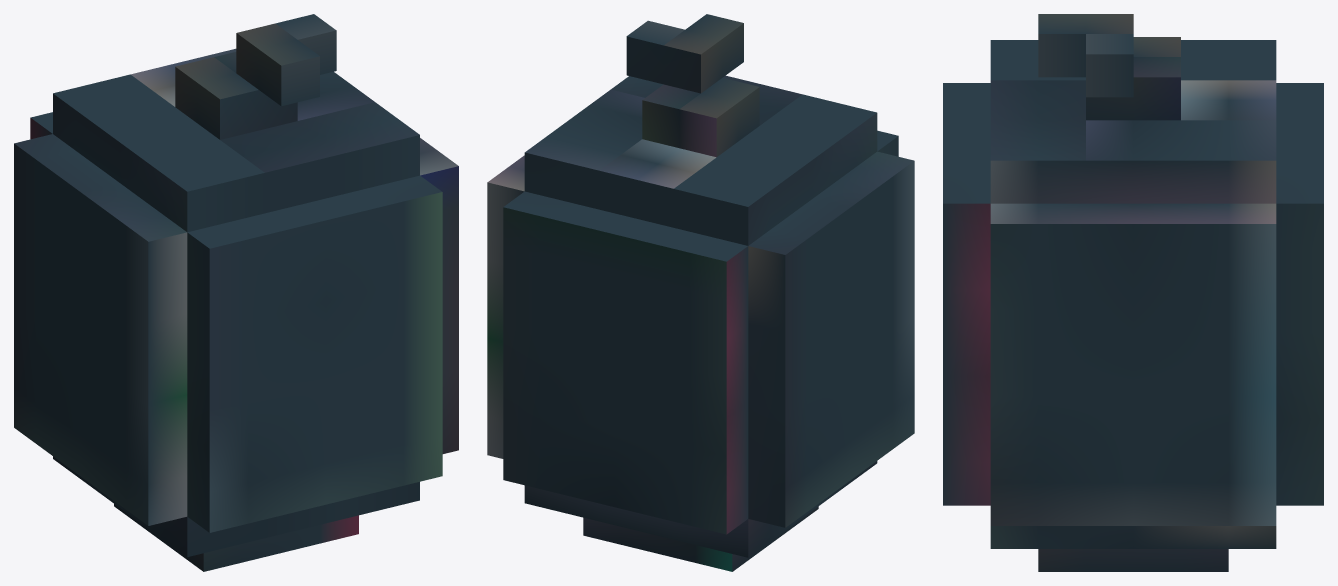
The model's file is Trash_D_00.fbx.
3 views of the same model, side by side, from view 1: azimuth 30°, elevation 25°; view 2: azimuth 150°, elevation 25°; view 3: azimuth 270°, elevation 25° (orthographic). The views are drawn at different scales.
Visible parts, largest first — view 1: Trash_D_00; view 2: Trash_D_00; view 3: Trash_D_00.
Part boxes in pixels (x1,y1,x2,y2): Trash_D_00: (14, 14, 458, 571); Trash_D_00: (487, 14, 914, 571); Trash_D_00: (943, 14, 1323, 571).
Size of the model in its own units: 40 by 60 by 40.
